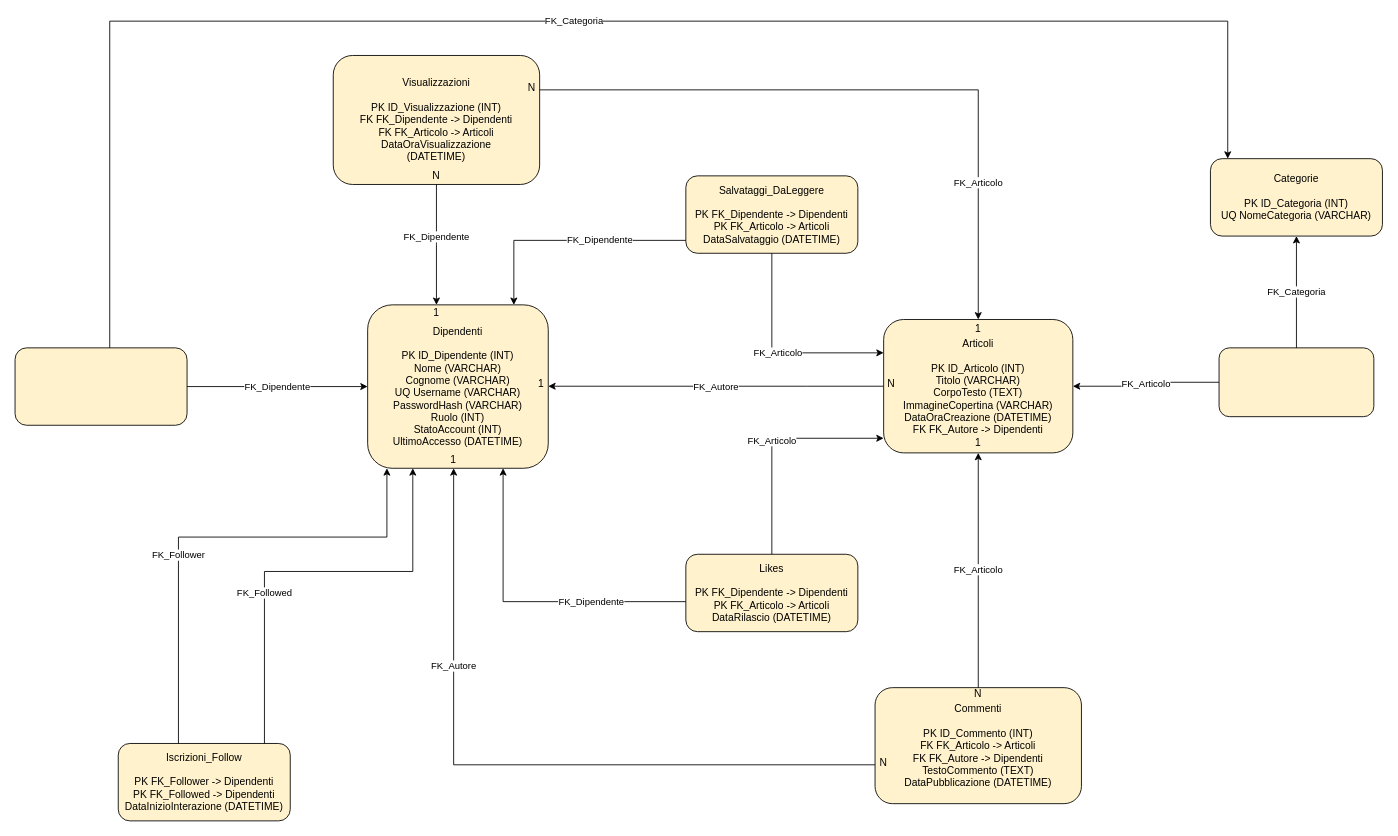
Image size: 1398x836. Some labels were removed from this diagram. Each missing label, with the centre of its shape:
"Articolo_Categoria PK FK_Articolo -> Articoli PK FK_Categoria -> Categorie" goes at [1296,382].
"Categorie_Preferite PK FK_Dipendente -> Dipendenti PK FK_Categoria -> Categorie" goes at [100,386].
